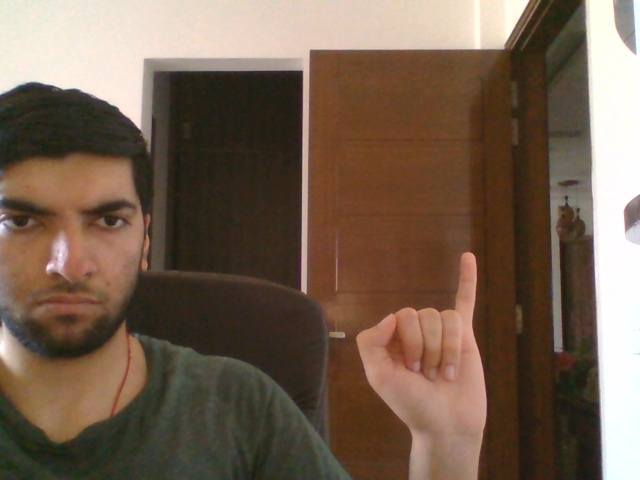LetterI: (355, 250, 488, 445)
